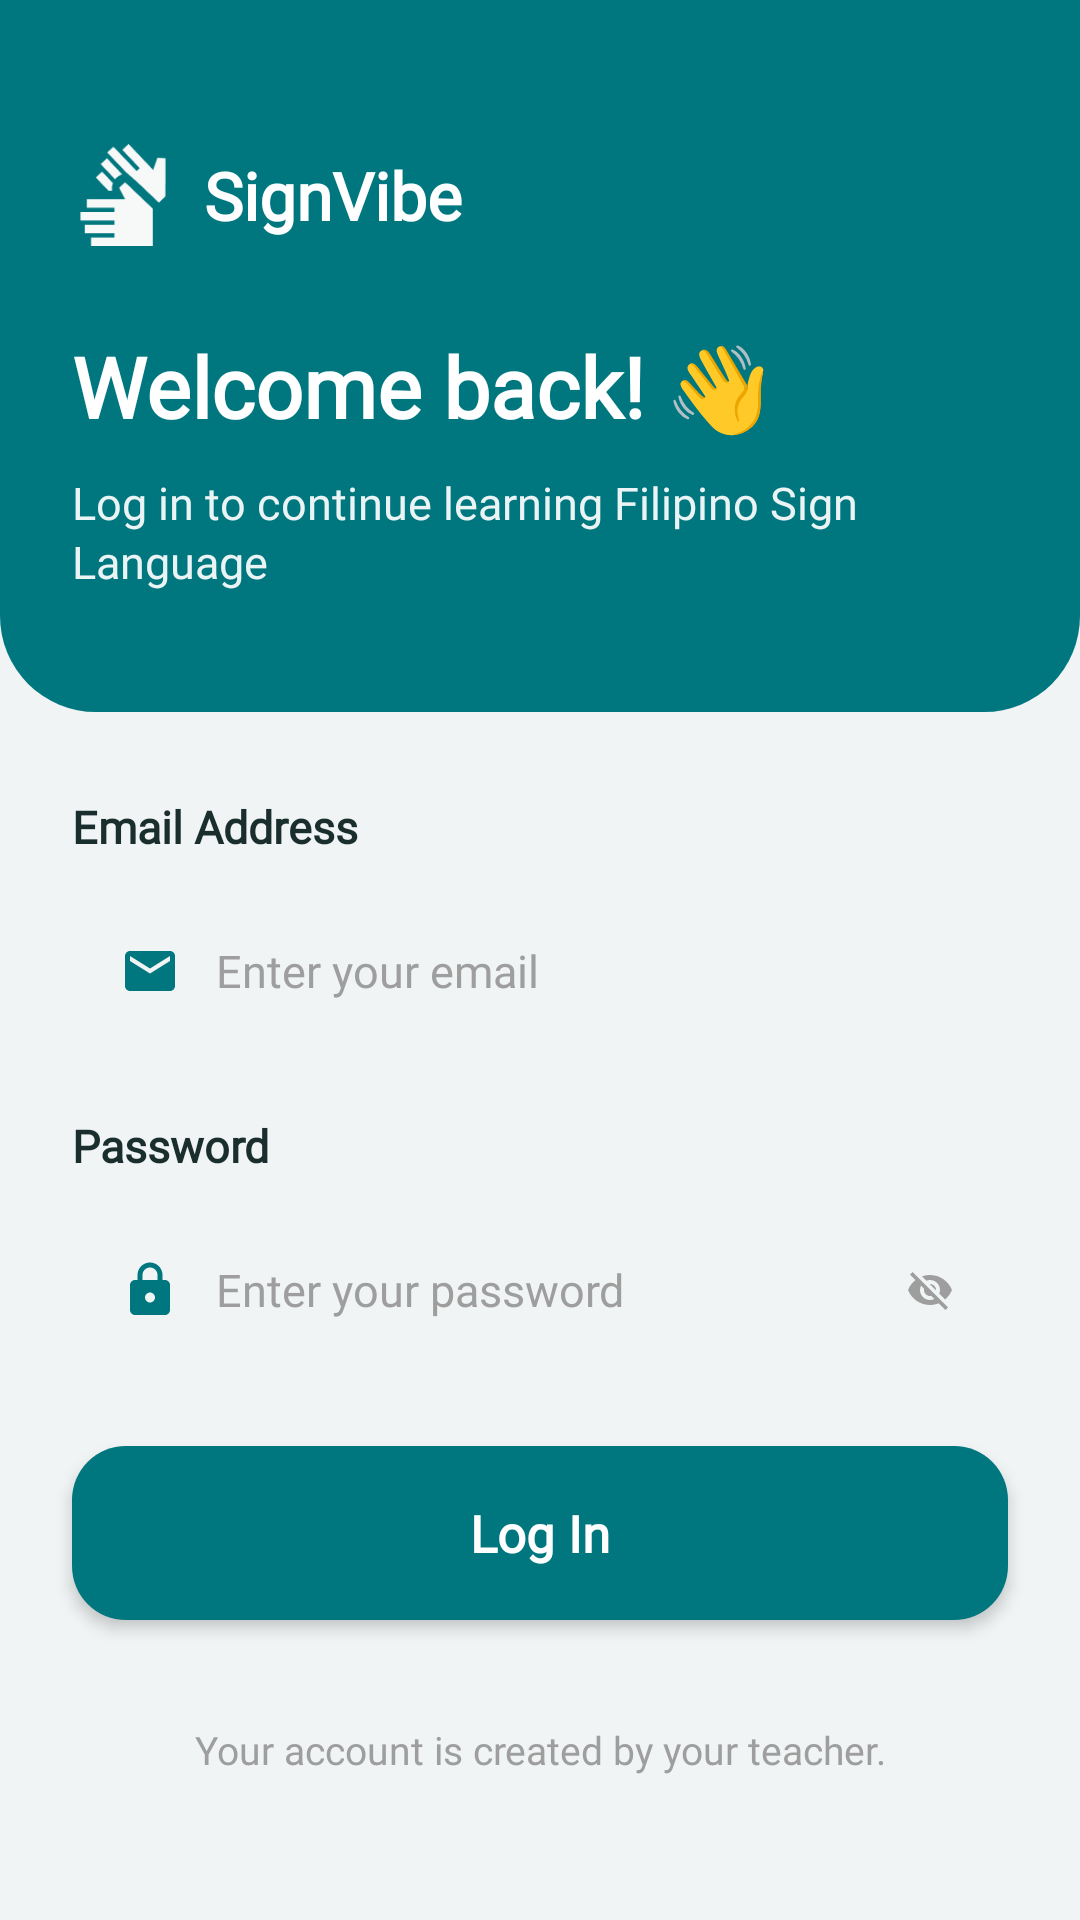

Named icons in this screenshot (1080px x 1920px) and their centers, (x,y):
lock: (150,1288)
visibility off: (930,1291)
